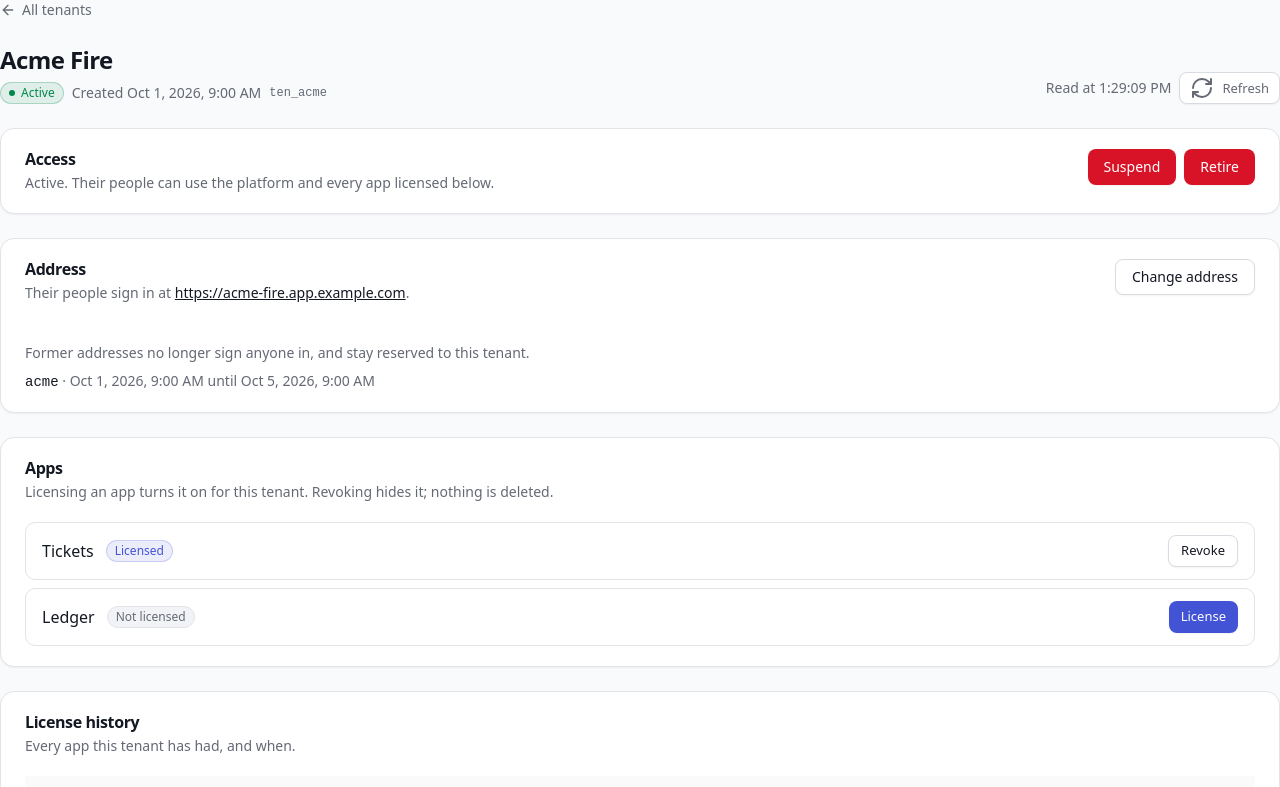
Test case: changing status › suspends only once the tenant has been named, and says what its people will experience
Step 1. Click the button "Suspend" → (1132, 167), box [1088, 149, 1176, 185]
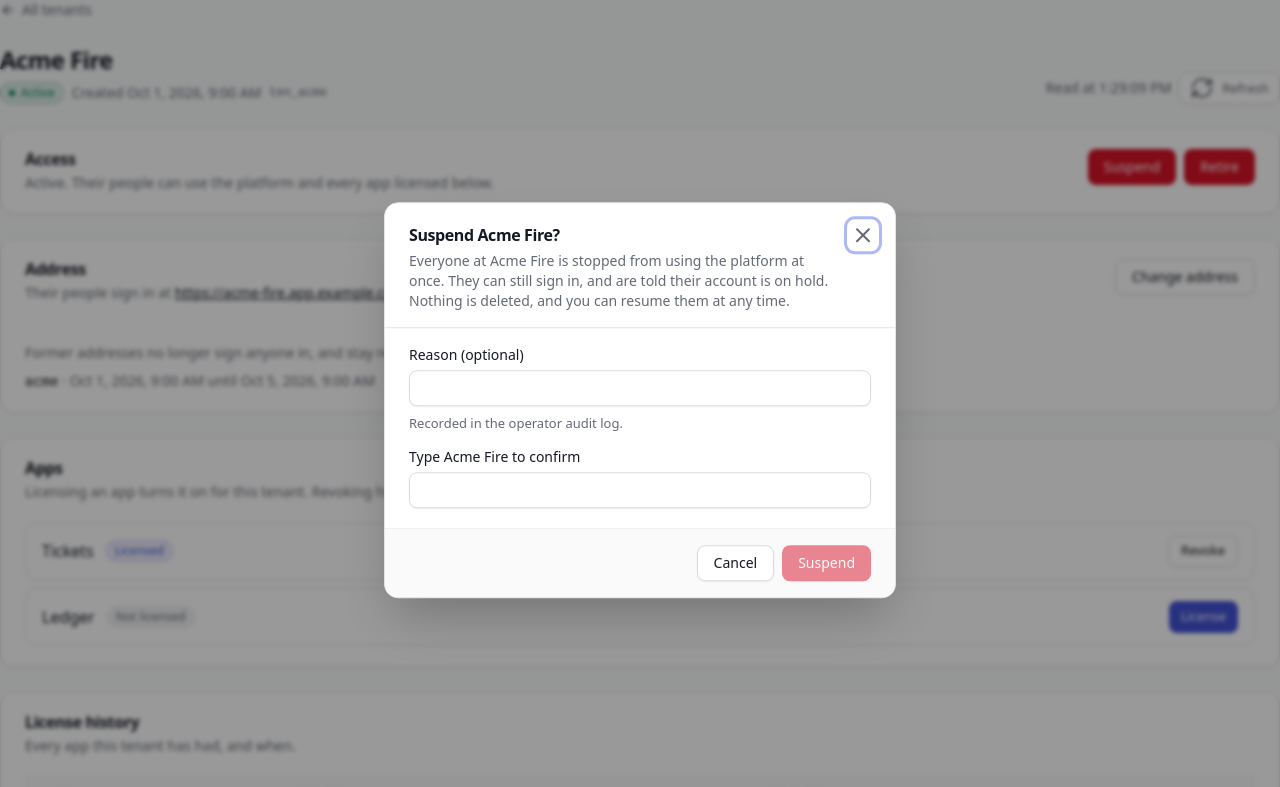
Expected: the dialog "Suspend Acme Fire?" shows "stopped from using the platform at once", [409, 251, 828, 310]
Expected: the button "Suspend" is disabled, [782, 545, 871, 581]
Step 2. Type "Unpaid invoice" into the field labelled "Reason (optional)" → (640, 388), box [409, 370, 871, 406]
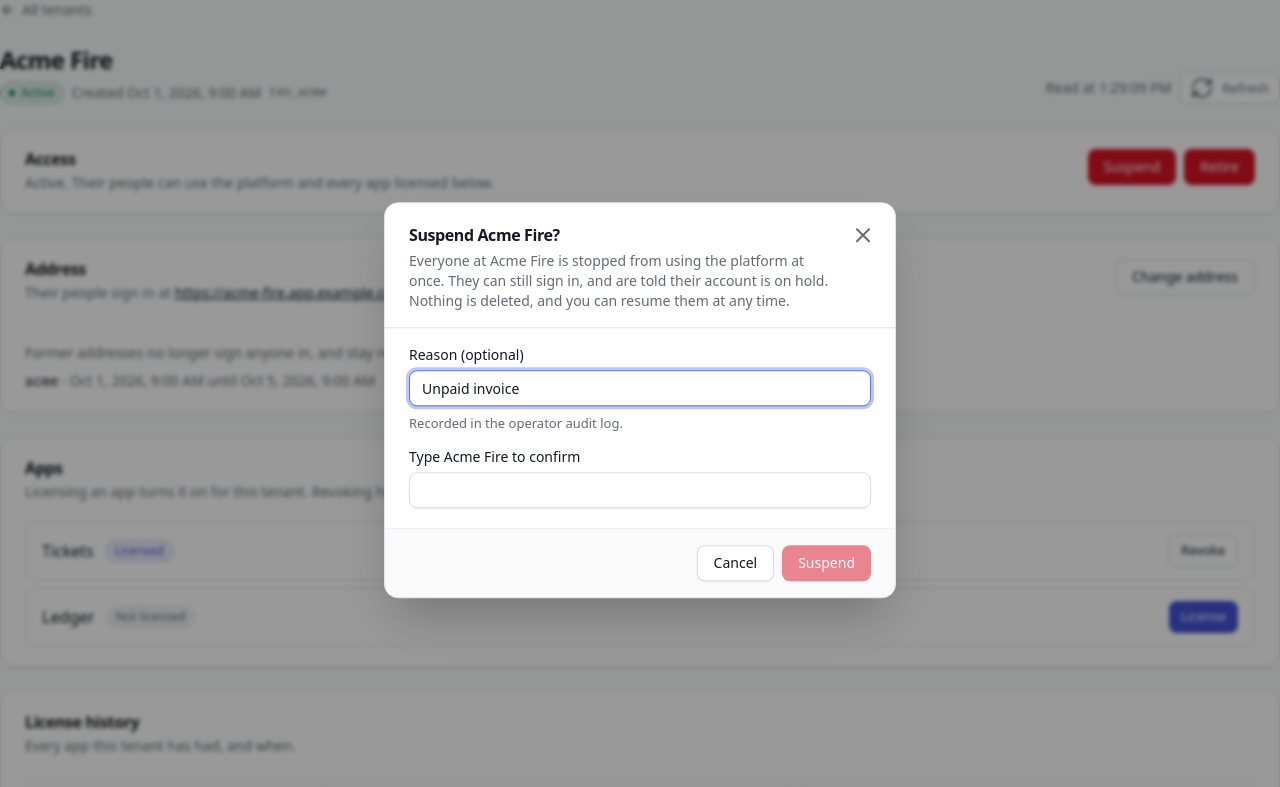
Step 3. Type "Acme Fire" into the field labelled "Type Acme Fire to confirm" → (640, 490), box [409, 472, 871, 508]
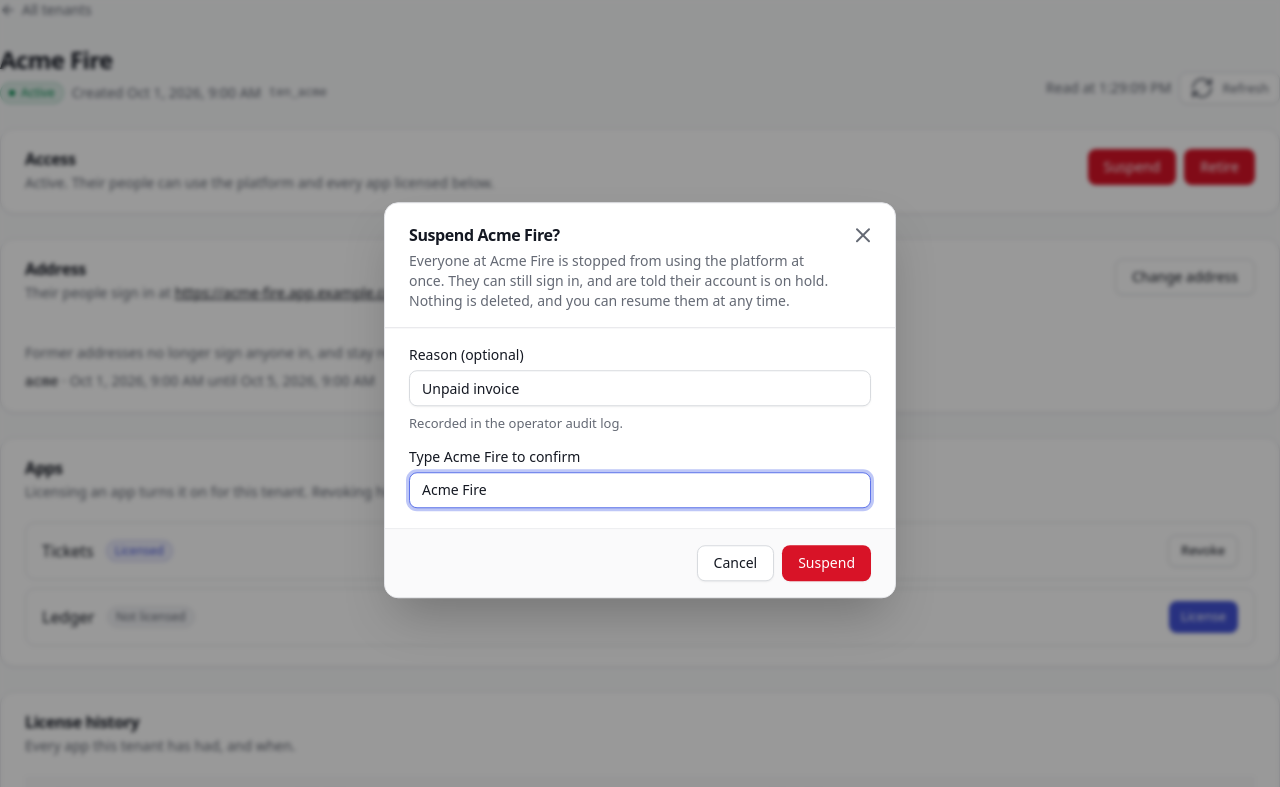
Step 4. Click the button "Suspend" → (827, 563), box [782, 545, 871, 581]
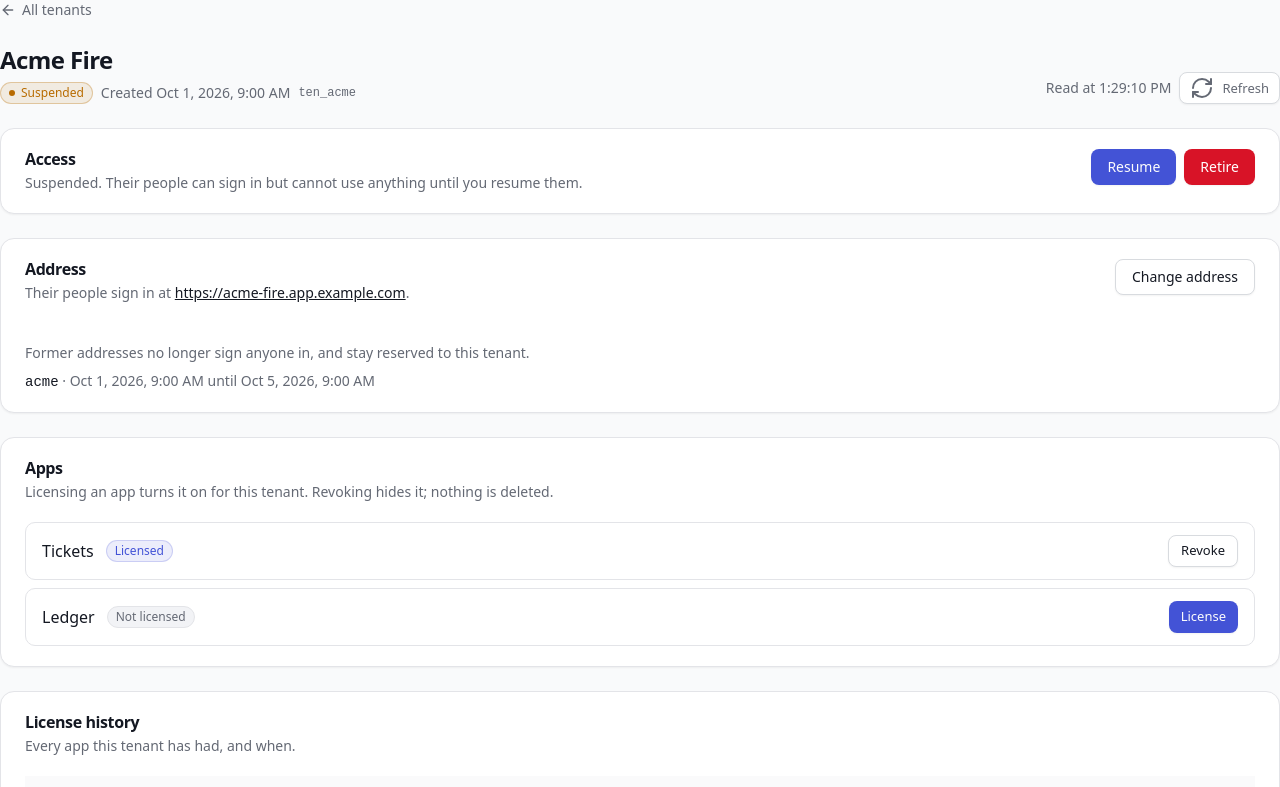
Expected: the button "Resume" is shown, [1091, 149, 1176, 185]
